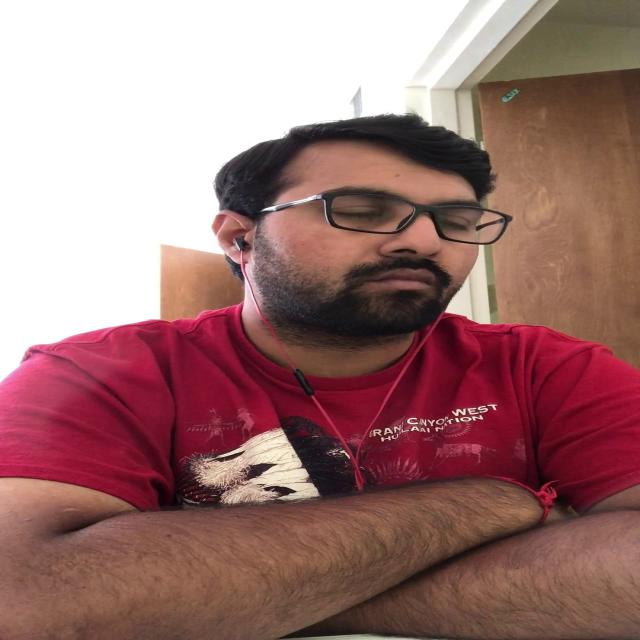Eyeclosed: (332, 206, 380, 223), (440, 217, 474, 236)
